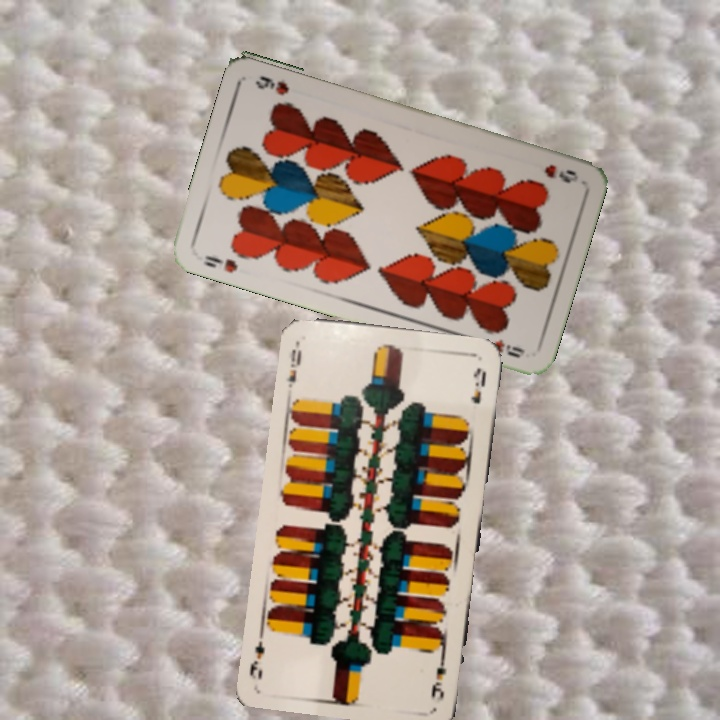E9: (427, 647, 449, 705), (284, 345, 305, 391)
H9: (540, 160, 581, 186), (200, 251, 241, 276)
